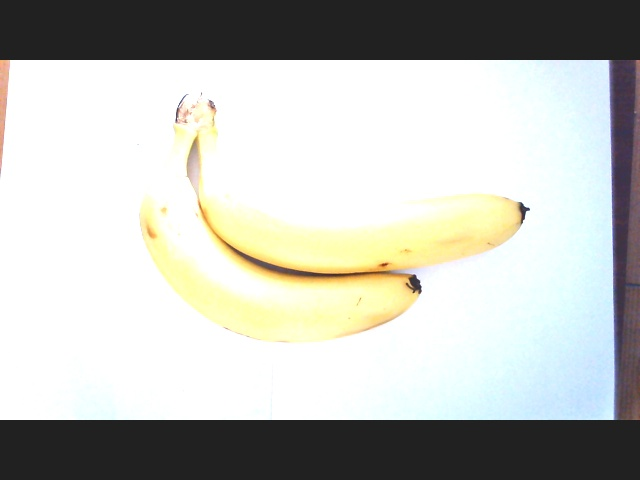banana: (147, 123, 533, 344)
